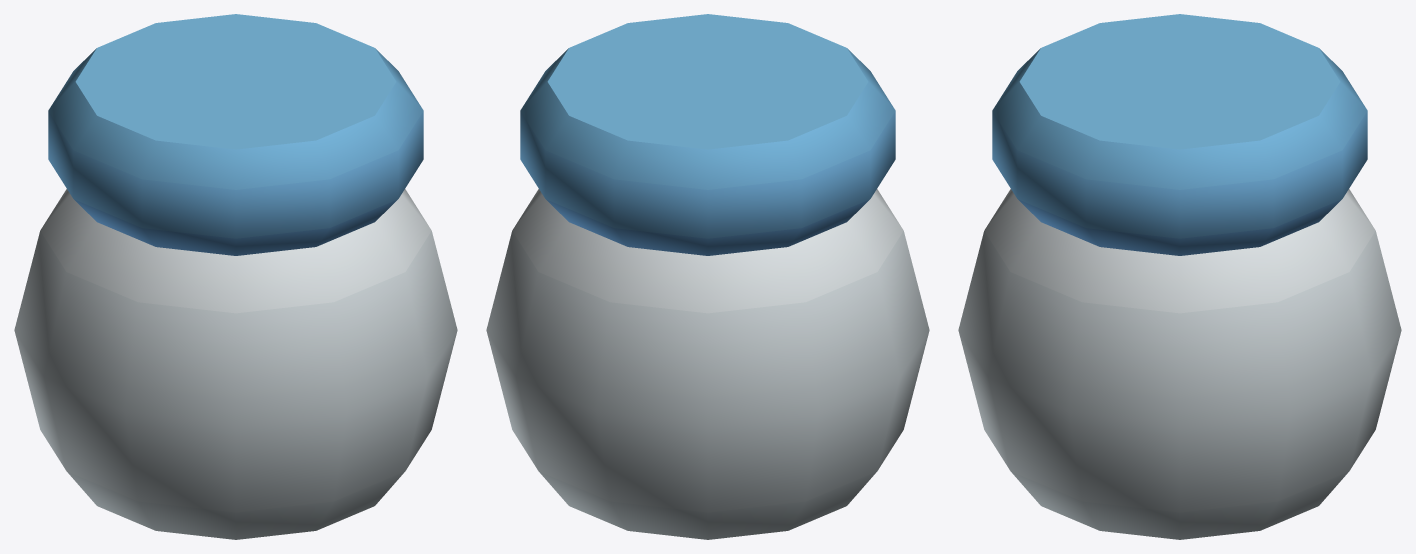
The model's file is jar_A_small.obj.
3 views of the same model, side by side, from view 1: azimuth 30°, elevation 25°; view 2: azimuth 150°, elevation 25°; view 3: azimuth 270°, elevation 25° (orthographic).
Parts seen in each view (by area): view 1: jar_A_small_Cylinder.258; view 2: jar_A_small_Cylinder.258; view 3: jar_A_small_Cylinder.258.
Part boxes in pixels (x1=…): jar_A_small_Cylinder.258: x1=14, y1=14, x2=457, y2=539; jar_A_small_Cylinder.258: x1=486, y1=14, x2=929, y2=539; jar_A_small_Cylinder.258: x1=958, y1=14, x2=1401, y2=539.
Size of the model in its own units: 0.566 by 0.55 by 0.566.
1 material, 1 textured.
